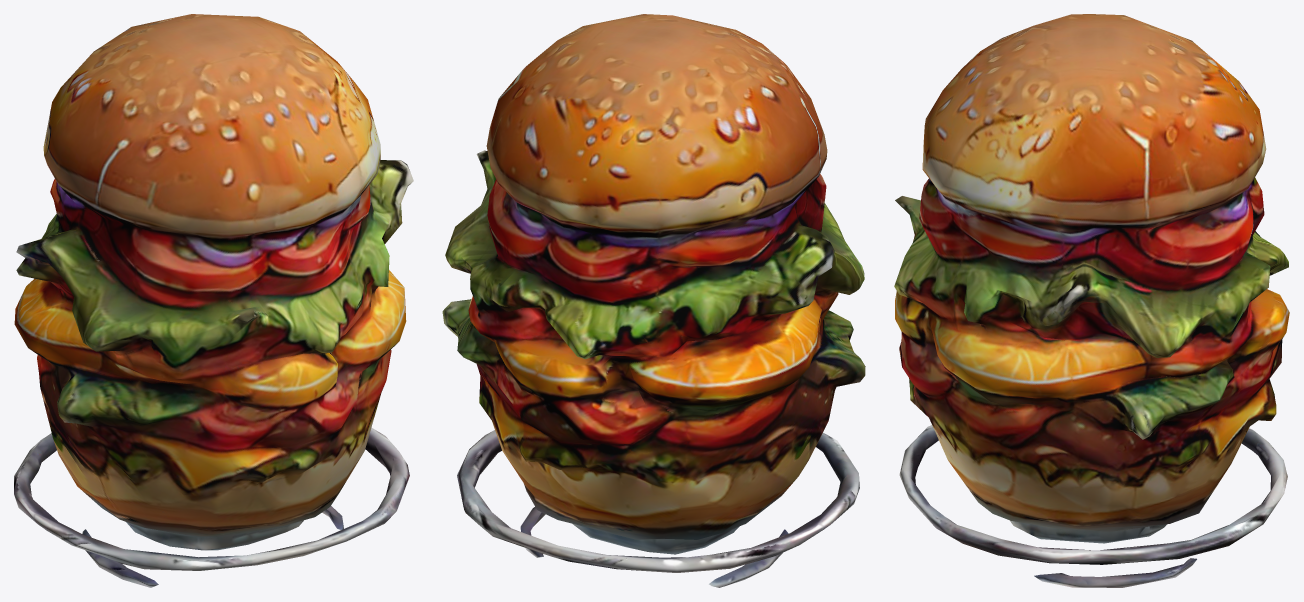
Rendered from hambruguesa doble.glb.
3 renders of one model, left to right at view 1: azimuth 30°, elevation 25°; view 2: azimuth 150°, elevation 25°; view 3: azimuth 270°, elevation 25°, orthographic.
Parts seen in each view (by area): view 1: ProcessedMeshNode_LOD1; view 2: ProcessedMeshNode_LOD1; view 3: ProcessedMeshNode_LOD1.
Part boxes in pixels (left/top/right/bottom): ProcessedMeshNode_LOD1: left=14, top=14, right=413, bottom=587; ProcessedMeshNode_LOD1: left=442, top=14, right=865, bottom=587; ProcessedMeshNode_LOD1: left=894, top=14, right=1289, bottom=587.
Bounding box in the file's own units: 0.6069 × 0.7853 × 0.5631.
1 material, 1 textured.
